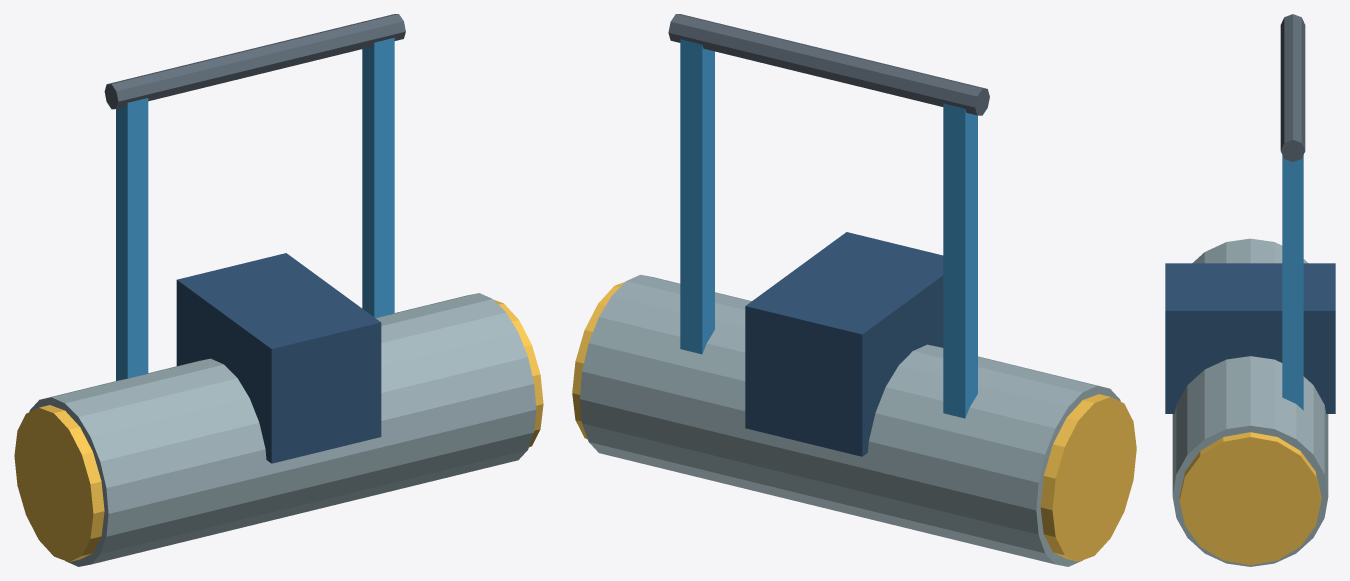
Rendered from manual-pitch-roller.glb.
3 views of the same model, side by side, from view 1: azimuth 30°, elevation 25°; view 2: azimuth 150°, elevation 25°; view 3: azimuth 270°, elevation 25° (orthographic). The views are drawn at different scales.
Visible parts, largest first — view 1: Roller | drum, Roller | axle frame, Roller | left cap, Roller | handle upright, Roller | handle upright.001, Roller | hand grip, Roller | right cap; view 2: Roller | drum, Roller | axle frame, Roller | left cap, Roller | handle upright, Roller | handle upright.001, Roller | hand grip, Roller | right cap; view 3: Roller | axle frame, Roller | right cap, Roller | drum, Roller | handle upright.001, Roller | hand grip.
Part boxes in pixels (x1,y1,x2,y2): Roller | drum: [29, 293, 536, 566]; Roller | axle frame: [176, 253, 381, 463]; Roller | left cap: [14, 405, 104, 561]; Roller | handle upright: [116, 98, 148, 380]; Roller | handle upright.001: [362, 38, 394, 317]; Roller | hand grip: [104, 14, 405, 109]; Roller | right cap: [494, 300, 543, 447]; Roller | drum: [580, 274, 1120, 566]; Roller | axle frame: [745, 232, 943, 456]; Roller | left cap: [1040, 394, 1136, 561]; Roller | handle upright: [943, 103, 977, 418]; Roller | handle upright.001: [680, 39, 714, 354]; Roller | hand grip: [668, 14, 989, 115]; Roller | right cap: [572, 282, 624, 439]; Roller | axle frame: [1165, 263, 1335, 413]; Roller | right cap: [1179, 432, 1321, 565]; Roller | drum: [1172, 238, 1328, 566]; Roller | handle upright.001: [1282, 155, 1303, 410]; Roller | hand grip: [1280, 14, 1305, 161].
Size of the model in its own units: 1.31 by 1.24 by 0.48.
